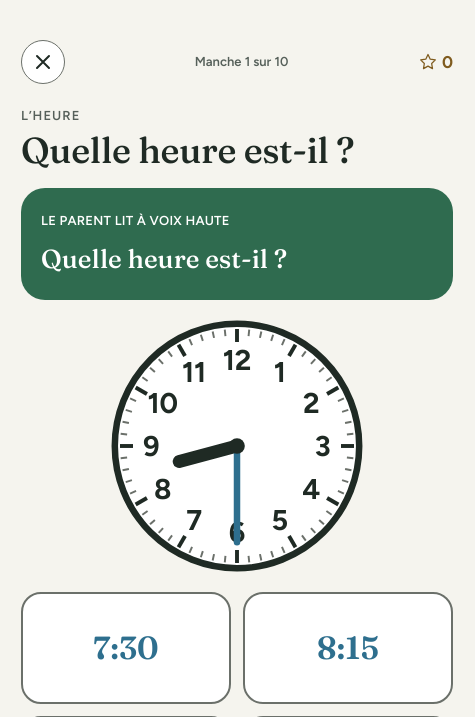
Scenario: Quelle heure est-il ? › en montrant, l’enfant touche l’heure en chiffres parmi les choix
The width and height of the screenshot is (475, 717).
Check: the button "8:15" is shown, box [243, 592, 453, 704]
Click the button "7:30" at (126, 648), box [21, 592, 231, 704]
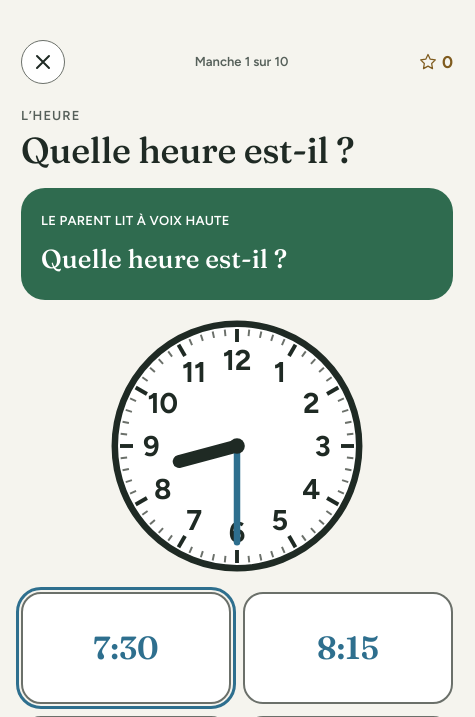
Click the button "8:15" at (348, 648), box [243, 592, 453, 704]
(page scrolled)
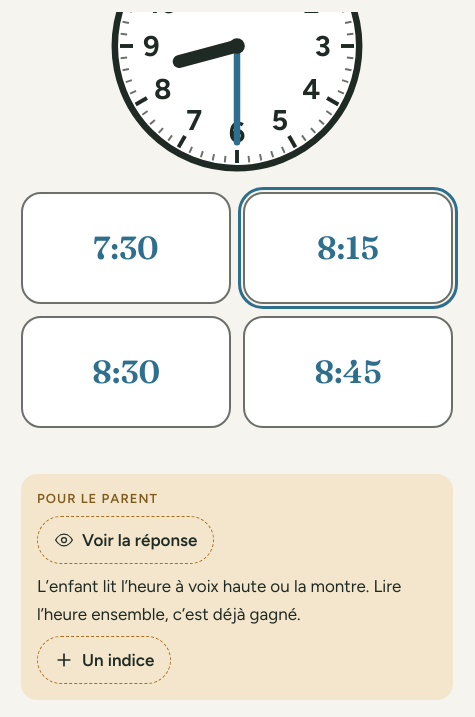
Click the button "8:30" at (126, 372), box [21, 316, 231, 428]
(page scrolled)
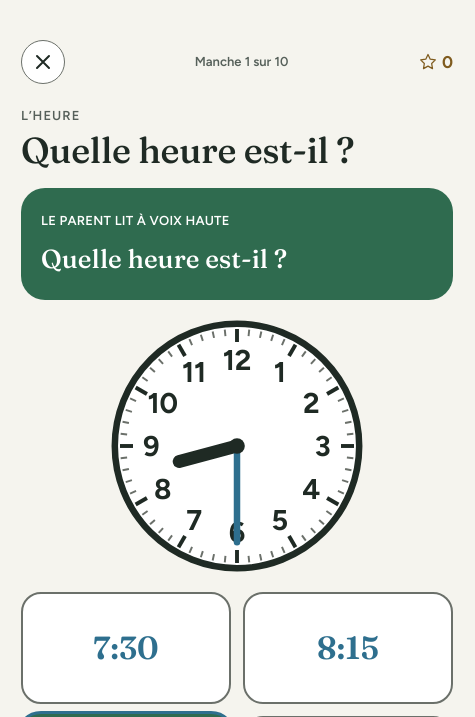
Check: the text "Manche 1 sur 10" is shown, box [195, 53, 288, 71]
